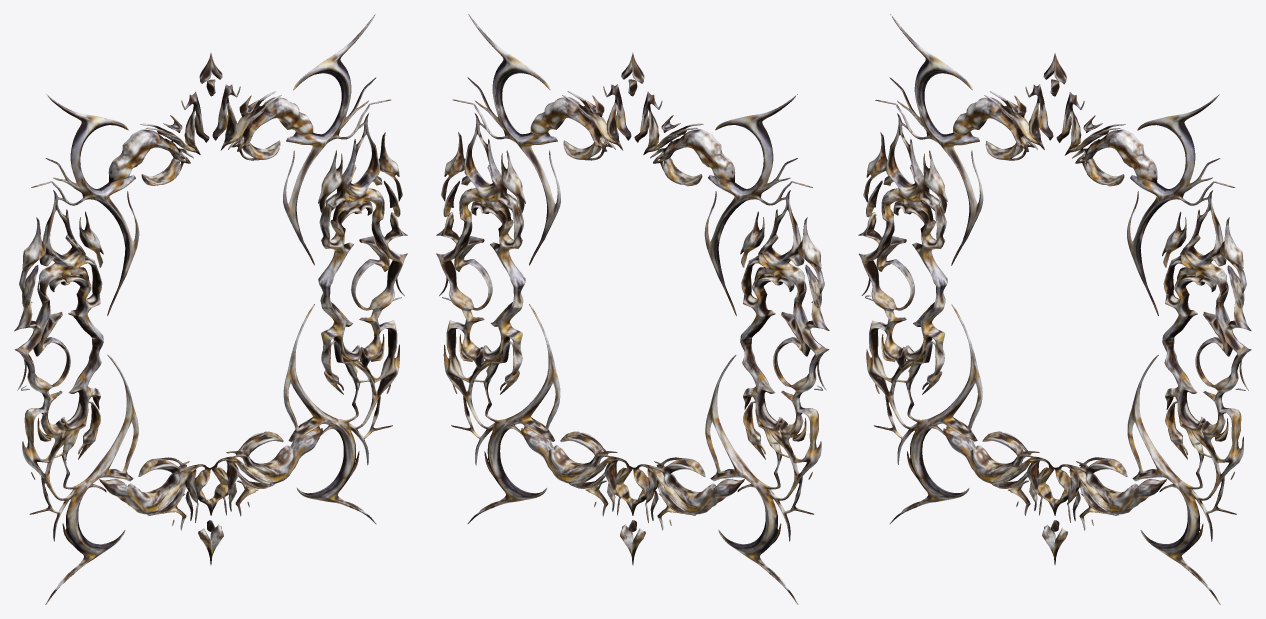
The model's file is Virgil Frame.glb.
3 views of the same model, side by side, from view 1: azimuth 30°, elevation 25°; view 2: azimuth 150°, elevation 25°; view 3: azimuth 330°, elevation 25° (orthographic).
Parts seen in each view (by area): view 1: geometry_0; view 2: geometry_0; view 3: geometry_0.
Part boxes in pixels (<box>): geometry_0: <box>14,14,407,604</box>; geometry_0: <box>436,14,829,604</box>; geometry_0: <box>858,14,1251,604</box>.
Size of the model in its own units: 0.8027 by 0.9999 by 0.0442.
1 material, 1 textured.
